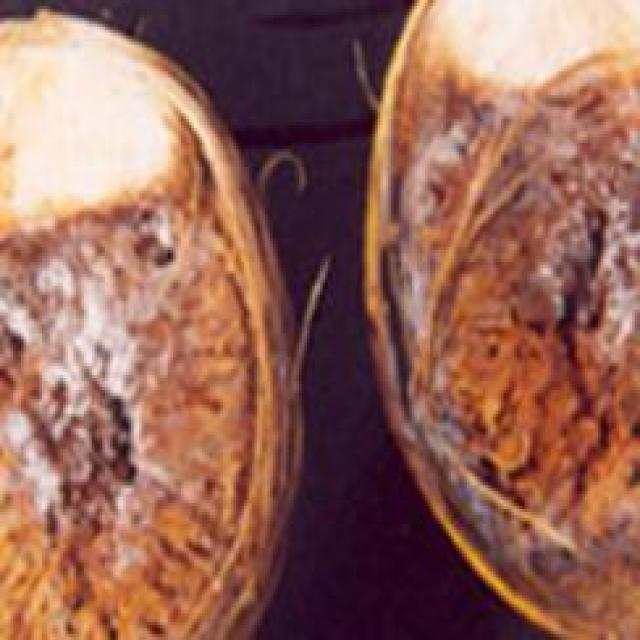damaged: (0, 9, 304, 637), (362, 0, 637, 637)
